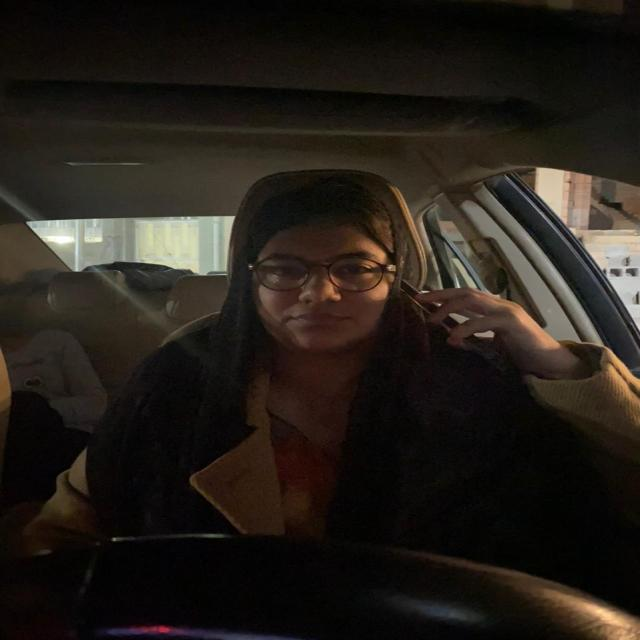mobile: (398, 277, 511, 374)
person: (232, 195, 406, 352)
